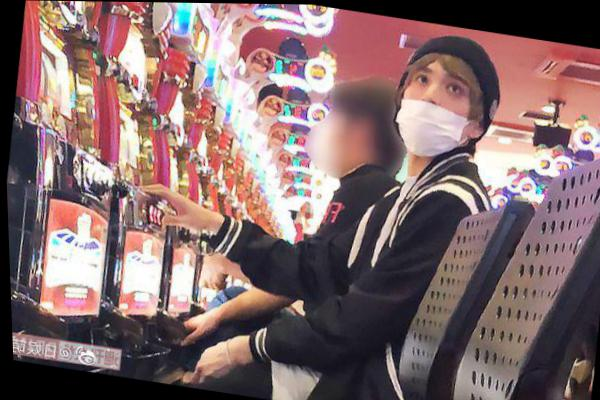WRONG: (392, 54, 481, 161)
